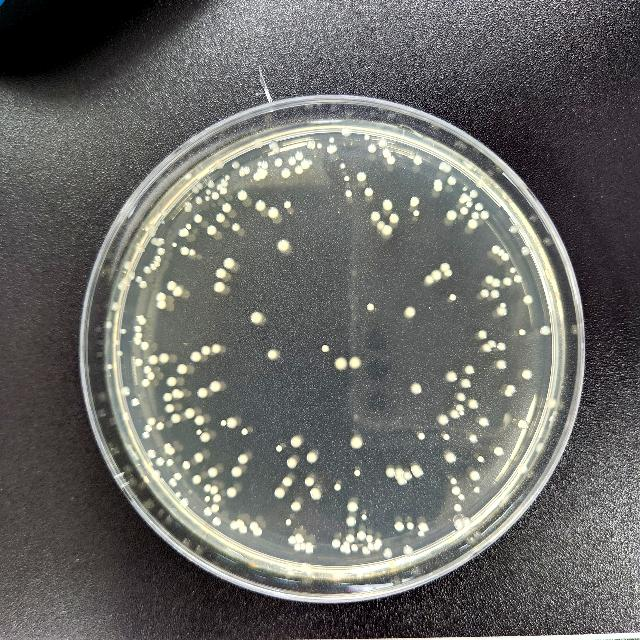colony: (334, 356, 348, 370), (251, 312, 263, 324), (278, 240, 290, 252), (350, 357, 362, 369), (351, 437, 363, 449), (404, 306, 416, 318), (411, 466, 423, 478), (310, 488, 322, 500), (290, 437, 302, 448), (267, 348, 279, 359), (411, 382, 422, 394), (444, 452, 456, 463), (268, 208, 280, 218), (256, 200, 266, 212), (410, 196, 420, 208), (223, 258, 235, 268), (215, 268, 227, 278), (213, 282, 225, 292), (190, 352, 202, 362), (226, 418, 238, 428), (286, 458, 298, 468), (306, 453, 318, 463), (274, 488, 286, 498), (290, 502, 302, 512), (460, 193, 472, 203), (172, 286, 184, 296), (136, 314, 146, 326), (210, 381, 220, 392), (327, 145, 338, 155), (447, 372, 458, 382), (497, 306, 508, 316), (395, 468, 405, 479), (208, 467, 218, 478), (120, 387, 130, 398), (238, 190, 248, 200), (222, 203, 232, 213), (207, 225, 217, 235), (383, 200, 393, 210), (357, 172, 367, 182), (389, 214, 399, 224), (376, 220, 386, 230), (382, 225, 392, 235), (198, 388, 208, 398), (305, 477, 315, 487), (348, 502, 358, 512), (238, 454, 248, 464), (232, 467, 242, 477), (227, 488, 237, 498), (300, 159, 310, 169), (306, 140, 316, 150), (465, 365, 475, 375), (461, 378, 471, 388), (456, 392, 466, 402), (468, 399, 478, 409), (479, 417, 489, 427), (470, 471, 480, 481), (494, 446, 504, 456), (506, 384, 516, 394), (496, 360, 506, 370), (496, 342, 506, 352), (478, 330, 488, 340), (424, 275, 434, 285), (432, 270, 442, 280), (447, 210, 457, 220), (468, 219, 478, 229), (480, 210, 490, 220), (382, 148, 392, 158), (378, 138, 388, 148), (502, 276, 512, 286), (438, 415, 448, 425), (418, 522, 428, 532), (540, 326, 550, 336), (523, 295, 533, 305), (521, 246, 531, 256), (215, 160, 225, 170), (194, 452, 204, 462), (192, 474, 202, 484), (212, 516, 222, 526), (249, 521, 259, 531), (252, 526, 262, 536), (294, 533, 304, 543), (403, 545, 413, 555), (346, 516, 356, 526), (356, 531, 366, 541), (522, 369, 532, 379), (546, 398, 556, 408), (518, 464, 528, 474), (454, 520, 464, 530), (461, 517, 471, 527), (535, 442, 545, 452), (179, 228, 189, 238), (194, 416, 204, 426), (185, 408, 195, 418), (200, 432, 210, 442), (171, 414, 181, 424), (167, 376, 177, 386), (177, 364, 187, 374), (159, 353, 169, 363), (156, 292, 166, 302), (180, 498, 190, 508), (152, 470, 162, 480), (306, 542, 314, 554), (217, 213, 226, 223), (368, 144, 377, 154), (282, 478, 292, 487), (452, 486, 461, 496), (492, 278, 501, 288), (518, 419, 528, 428), (212, 493, 222, 502), (383, 548, 392, 558), (332, 539, 341, 549), (362, 546, 371, 556), (165, 403, 175, 412), (448, 177, 457, 186), (443, 164, 452, 173), (364, 188, 374, 196), (282, 168, 290, 178), (212, 344, 220, 354), (202, 345, 210, 355), (294, 166, 304, 174), (294, 152, 304, 160), (342, 128, 352, 136), (470, 434, 478, 444), (482, 344, 492, 352), (440, 264, 450, 272), (413, 156, 423, 164), (386, 156, 396, 164), (438, 162, 448, 170), (484, 276, 494, 284), (490, 290, 500, 298), (450, 410, 460, 418), (386, 468, 394, 478), (394, 522, 404, 530), (474, 203, 484, 211), (254, 140, 264, 148), (204, 506, 212, 516), (230, 520, 238, 530), (346, 534, 354, 544), (301, 562, 309, 572), (182, 460, 190, 470), (164, 392, 172, 402), (148, 356, 158, 364), (158, 300, 166, 310), (167, 282, 177, 290), (132, 337, 142, 345), (132, 397, 140, 407), (166, 458, 174, 468), (156, 457, 164, 467), (142, 266, 152, 274), (112, 302, 120, 312), (372, 212, 381, 220), (288, 157, 296, 166), (459, 207, 468, 215), (472, 212, 481, 220), (509, 225, 518, 233), (502, 253, 511, 261), (404, 472, 412, 481), (398, 477, 407, 485), (203, 483, 211, 492), (211, 503, 219, 512), (194, 214, 202, 223), (181, 247, 189, 256), (172, 389, 180, 398), (141, 342, 149, 351), (148, 449, 156, 458), (167, 447, 176, 455), (332, 572, 343, 578), (232, 223, 240, 231), (240, 428, 248, 436), (321, 344, 329, 352), (334, 483, 342, 491), (472, 486, 480, 494), (488, 340, 496, 348), (444, 269, 452, 277), (492, 246, 500, 254), (514, 275, 522, 283), (481, 289, 489, 297), (518, 328, 526, 336), (456, 404, 464, 412), (406, 522, 414, 530), (454, 504, 462, 512), (476, 180, 484, 188), (470, 190, 478, 198), (466, 200, 474, 208), (274, 159, 282, 167), (270, 141, 278, 149), (272, 146, 280, 154), (232, 161, 240, 169), (210, 486, 218, 494), (236, 520, 244, 528), (239, 525, 247, 533), (288, 536, 296, 544), (356, 570, 364, 578), (196, 182, 204, 190), (192, 187, 200, 195), (220, 180, 228, 188), (174, 472, 182, 480), (144, 366, 152, 374), (147, 372, 155, 380), (142, 379, 150, 387), (135, 358, 143, 366), (157, 247, 165, 255), (139, 280, 147, 288), (168, 478, 176, 486), (142, 431, 150, 439), (145, 424, 153, 432), (148, 417, 156, 425), (157, 422, 165, 430), (150, 263, 158, 271), (124, 261, 132, 269), (127, 272, 135, 280), (122, 278, 130, 286), (118, 282, 126, 290), (137, 245, 145, 253), (262, 160, 268, 170), (239, 167, 245, 177), (368, 542, 374, 552), (354, 469, 362, 476), (504, 389, 512, 396), (208, 181, 215, 189), (220, 188, 228, 195), (195, 197, 202, 205), (154, 255, 162, 262), (148, 230, 156, 237), (253, 173, 260, 181), (433, 186, 442, 192), (344, 190, 352, 196), (276, 444, 282, 452), (285, 518, 291, 526), (329, 136, 335, 144), (366, 304, 374, 310), (418, 432, 424, 440), (476, 456, 484, 462), (418, 530, 424, 538), (434, 179, 442, 185), (244, 166, 250, 174), (300, 542, 306, 550), (294, 543, 300, 551), (352, 544, 358, 552), (366, 534, 372, 542), (376, 538, 382, 546), (184, 174, 192, 180), (212, 192, 218, 200), (133, 326, 141, 332), (135, 332, 143, 338), (106, 321, 112, 329), (176, 490, 182, 498), (164, 443, 172, 449), (154, 260, 160, 268), (186, 202, 194, 208), (184, 207, 192, 213), (149, 224, 157, 230), (308, 564, 314, 572), (306, 571, 314, 577), (136, 276, 142, 284), (220, 419, 226, 426), (443, 434, 449, 441), (449, 294, 456, 300), (374, 544, 381, 550), (178, 392, 185, 398), (116, 349, 122, 356), (152, 238, 158, 245), (158, 238, 164, 245), (284, 202, 290, 208), (344, 176, 350, 182), (413, 210, 419, 216), (364, 135, 370, 141), (340, 163, 346, 169), (450, 478, 456, 484), (459, 494, 465, 500), (498, 250, 504, 256), (510, 267, 516, 273), (500, 302, 506, 308), (204, 496, 210, 502), (286, 564, 292, 570), (217, 184, 223, 190), (204, 196, 210, 202), (186, 223, 192, 229), (189, 250, 195, 256), (120, 328, 126, 334), (114, 340, 120, 346), (161, 210, 167, 216), (343, 541, 349, 547), (345, 548, 351, 554), (262, 169, 268, 175), (260, 173, 266, 179), (340, 544, 344, 552), (309, 160, 313, 166), (316, 144, 322, 148), (460, 410, 464, 416), (463, 186, 467, 192), (258, 161, 262, 167), (224, 176, 230, 180), (362, 514, 366, 520), (196, 430, 202, 434), (108, 364, 112, 370), (172, 482, 178, 486), (160, 220, 166, 224), (155, 243, 161, 247), (206, 190, 210, 194), (173, 243, 177, 247), (258, 168, 262, 172)
